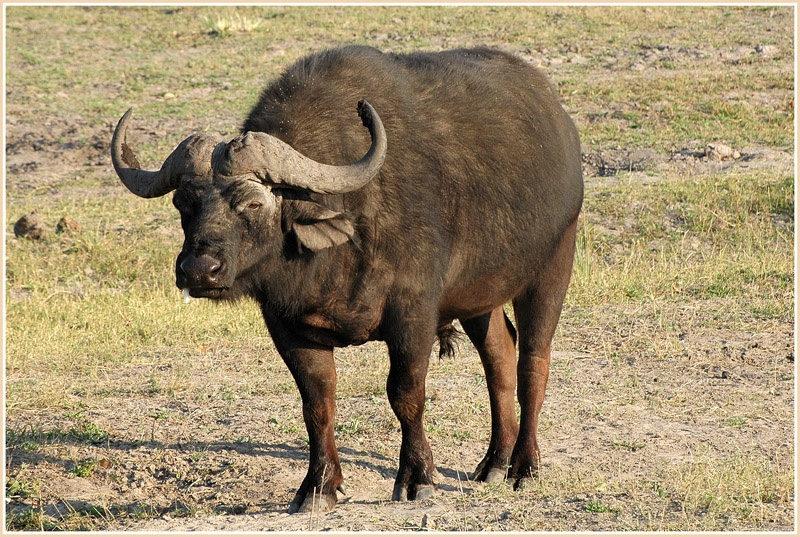buffalo: (109, 44, 586, 496)
